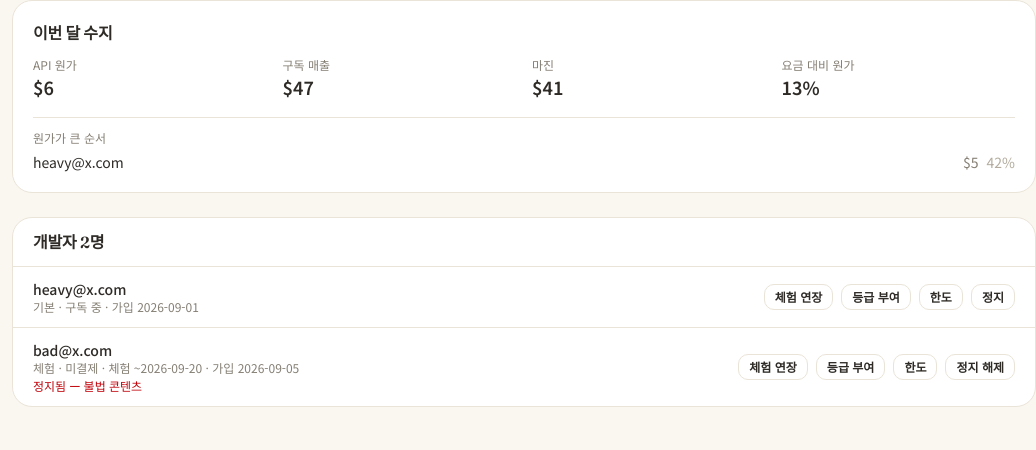
Test: [P8-2][P8-3] AdminConsole › 감사 로그 경고가 오면 화면에 띄운다 (조용히 넘기지 않는다)
Click the button with aria-label "bad@x.com 정지 해제" at [980, 367], box [946,354,1015,380]
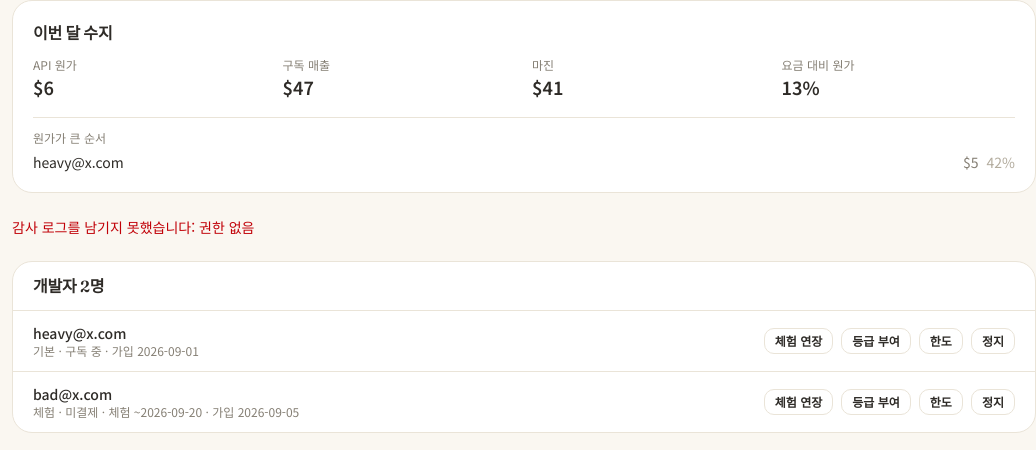
expect the message shows "감사 로그를 남기지 못했습니다": met, box [12,217,254,237]
